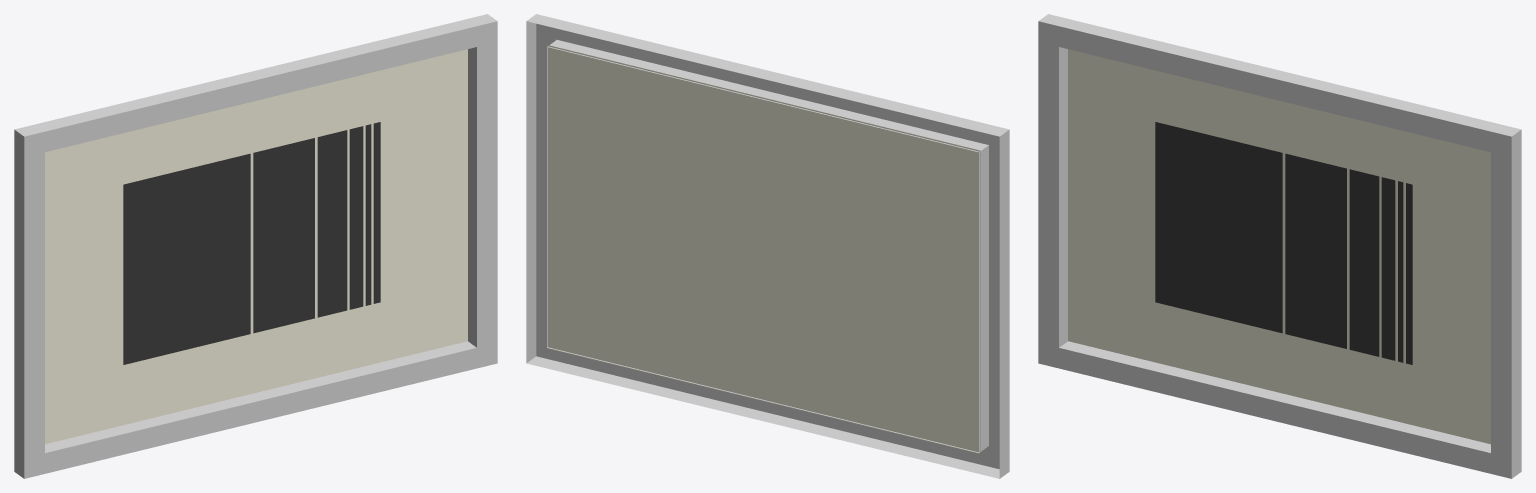
The model's file is picture_011.glb.
3 views of the same model, side by side, from view 1: azimuth 30°, elevation 25°; view 2: azimuth 150°, elevation 25°; view 3: azimuth 330°, elevation 25° (orthographic).
Parts seen in each view (by area): view 1: picture_011; view 2: picture_011; view 3: picture_011.
Part boxes in pixels (x1,y1,x2,y2): picture_011: (14, 14, 497, 478); picture_011: (526, 14, 1009, 478); picture_011: (1038, 14, 1521, 478).
Bounding box in the file's own units: 0.5433 × 0.3754 × 0.0196.
1 material, 1 textured.
